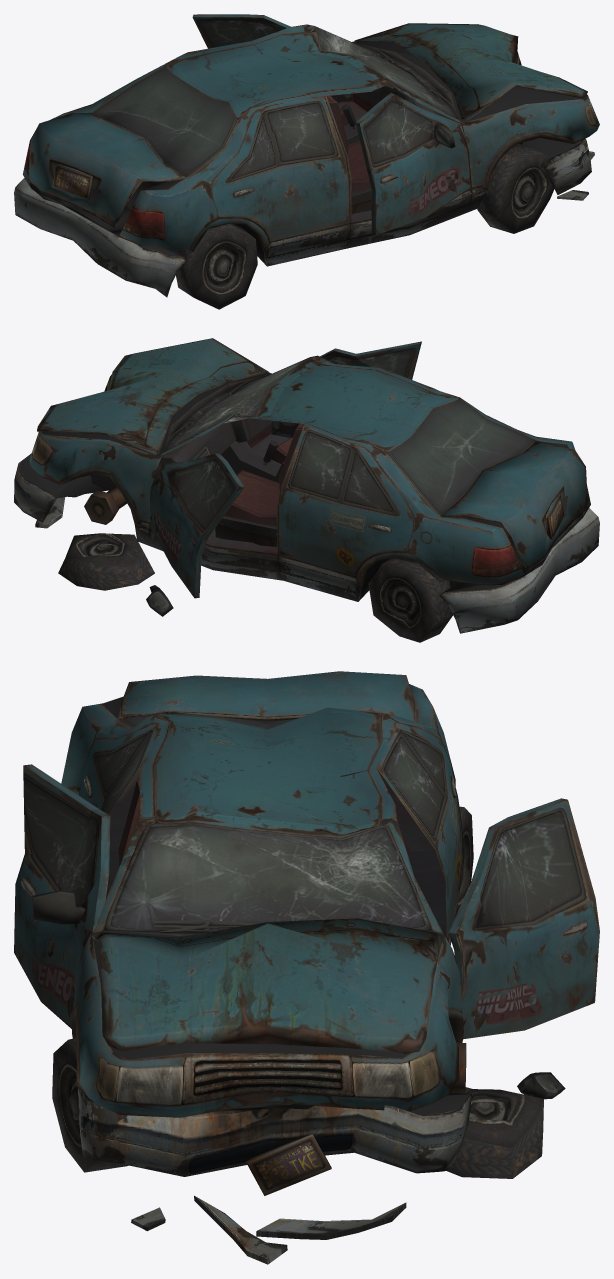
File: CrashedCar2.FBX
3 renders of one model, top to bottom at view 1: azimuth 30°, elevation 25°; view 2: azimuth 150°, elevation 25°; view 3: azimuth 270°, elevation 25°, orthographic. The views are drawn at different scales.
Visible parts, largest first — view 1: Object109; view 2: Object109; view 3: Object109.
Part boxes in pixels (x1=…): Object109: x1=14, y1=14, x2=599, y2=309; Object109: x1=14, y1=338, x2=599, y2=642; Object109: x1=14, y1=671, x2=599, y2=1264.
Size of the model in its own units: 5.05 by 1.55 by 3.03.
1 material, 1 textured.
